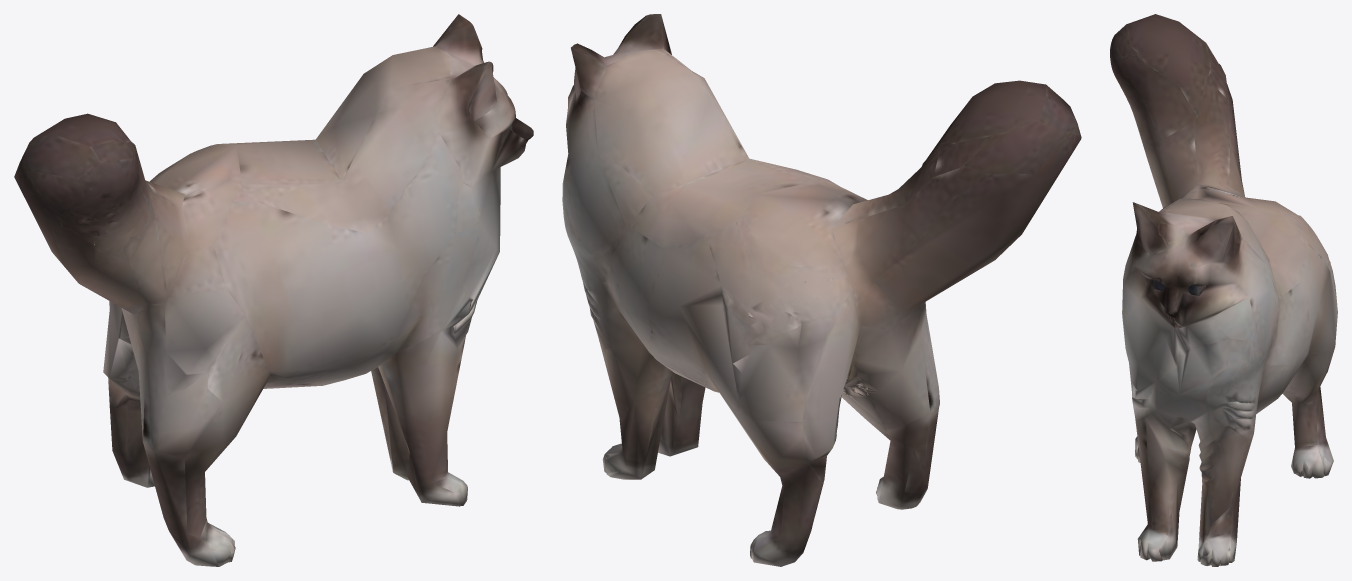
File: CHOUPETCAT-lo.glb
3 views of the same model, side by side, from view 1: azimuth 30°, elevation 25°; view 2: azimuth 150°, elevation 25°; view 3: azimuth 270°, elevation 25° (orthographic). The views are drawn at different scales.
Parts seen in each view (by area): view 1: material; view 2: material; view 3: material.
Part boxes in pixels (left/top/right/bottom): material: left=14, top=14, right=533, bottom=566; material: left=562, top=14, right=1081, bottom=566; material: left=1110, top=14, right=1337, bottom=566.
Bounding box in the file's own units: 1.15 × 0.9983 × 0.532.
Materials: 1 (1 with a texture image).
